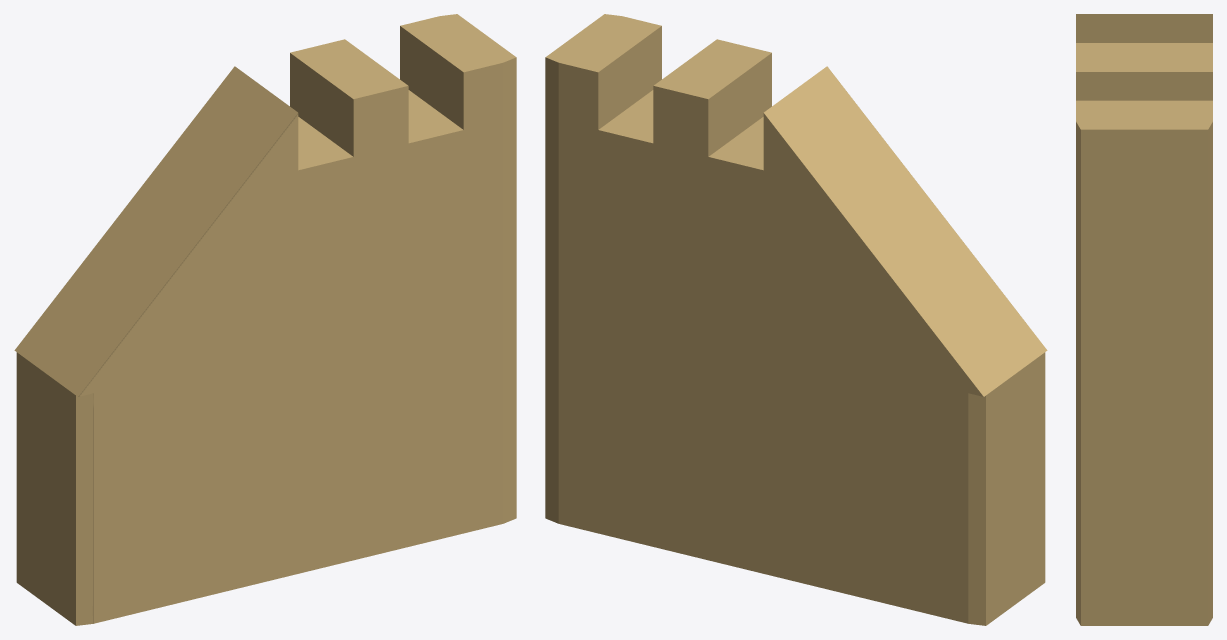
Rendered from wall4.fbx.
3 renders of one model, left to right at view 1: azimuth 30°, elevation 25°; view 2: azimuth 150°, elevation 25°; view 3: azimuth 270°, elevation 25°, orthographic. The views are drawn at different scales.
Parts seen in each view (by area): view 1: Cube.514; view 2: Cube.514; view 3: Cube.514.
Part boxes in pixels (x1,y1,x2,y2): Cube.514: (14, 14, 516, 625); Cube.514: (545, 14, 1047, 625); Cube.514: (1076, 14, 1212, 625).
Bounding box in the file's own units: 50 × 200 × 200.
